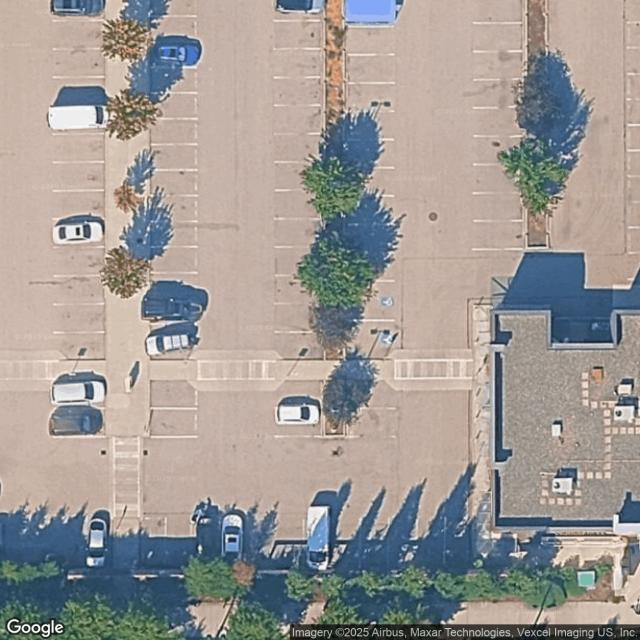car: (142, 294, 204, 324), (304, 505, 330, 573), (44, 104, 111, 130), (147, 38, 203, 66), (51, 378, 106, 406), (196, 511, 222, 567), (48, 410, 101, 436), (145, 332, 197, 358), (85, 516, 109, 572), (222, 513, 245, 565), (52, 222, 102, 245), (278, 401, 320, 427), (51, 0, 106, 16), (273, 0, 324, 17)
lot_boundary: (1, 0, 640, 575)
objects: (106, 0, 151, 435), (326, 0, 344, 360), (527, 0, 547, 247), (344, 0, 396, 25)
stall: (345, 282, 397, 320), (345, 321, 396, 358), (0, 515, 31, 571), (360, 518, 391, 570), (193, 518, 223, 571), (304, 518, 333, 572), (54, 332, 105, 362), (53, 103, 104, 133), (53, 132, 104, 162), (53, 18, 104, 48), (344, 83, 396, 112), (472, 164, 524, 193), (272, 303, 324, 332), (52, 217, 104, 246), (52, 408, 104, 437), (54, 246, 104, 276), (333, 518, 361, 571), (274, 77, 325, 106), (345, 54, 396, 83), (345, 26, 396, 55), (472, 51, 523, 80), (473, 107, 524, 136), (346, 197, 397, 226), (274, 162, 325, 191), (152, 294, 203, 323), (53, 161, 104, 190), (53, 275, 104, 304), (54, 303, 105, 332), (53, 77, 104, 106), (53, 47, 104, 76), (53, 380, 104, 409), (472, 136, 524, 164), (274, 191, 326, 219), (152, 324, 204, 352), (472, 22, 522, 51), (274, 331, 324, 360), (346, 252, 396, 281), (392, 517, 418, 572), (445, 516, 471, 571), (250, 518, 276, 573), (85, 515, 111, 570), (32, 515, 58, 570), (58, 515, 84, 570), (472, 79, 523, 107), (473, 192, 524, 220), (473, 221, 524, 249), (346, 169, 397, 197), (346, 141, 397, 169), (345, 112, 396, 140), (274, 106, 325, 134), (274, 133, 325, 161), (275, 220, 326, 248), (274, 247, 325, 275), (274, 21, 325, 49), (166, 517, 192, 571), (418, 517, 444, 571), (277, 518, 303, 572), (224, 518, 250, 572), (274, 275, 324, 303), (346, 224, 396, 252), (274, 49, 324, 77), (53, 191, 103, 218), (348, 409, 396, 437), (347, 382, 396, 409), (142, 517, 166, 571), (276, 410, 324, 436), (277, 382, 323, 409), (152, 272, 196, 300), (151, 119, 196, 146), (152, 220, 197, 247), (151, 68, 196, 95), (152, 42, 197, 69), (152, 16, 197, 43), (152, 410, 197, 437), (152, 245, 196, 272), (152, 93, 196, 120), (153, 172, 197, 199), (151, 382, 196, 408), (472, 0, 522, 23), (152, 146, 196, 172), (274, 0, 325, 21), (53, 0, 105, 19), (153, 200, 197, 222), (152, 0, 198, 17)
